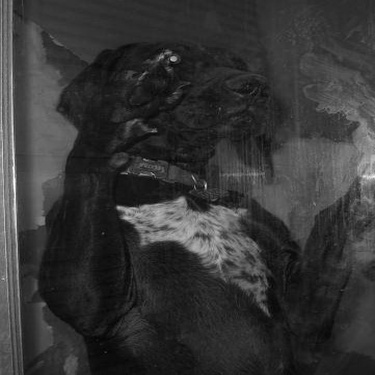dog: (27, 13, 368, 371)
